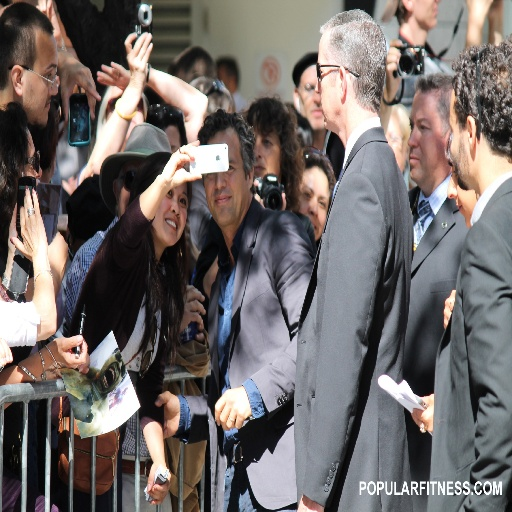hand: (7, 185, 47, 278), (60, 54, 101, 127), (160, 138, 204, 192), (53, 331, 89, 376), (123, 31, 153, 85), (212, 387, 248, 432), (153, 389, 182, 438), (179, 283, 206, 334), (385, 35, 404, 100), (146, 458, 171, 505), (409, 393, 433, 438), (94, 59, 130, 88), (253, 192, 287, 211), (441, 290, 456, 332), (5, 203, 16, 257), (464, 0, 491, 21), (294, 493, 323, 511), (487, 0, 504, 19), (193, 318, 206, 342)
